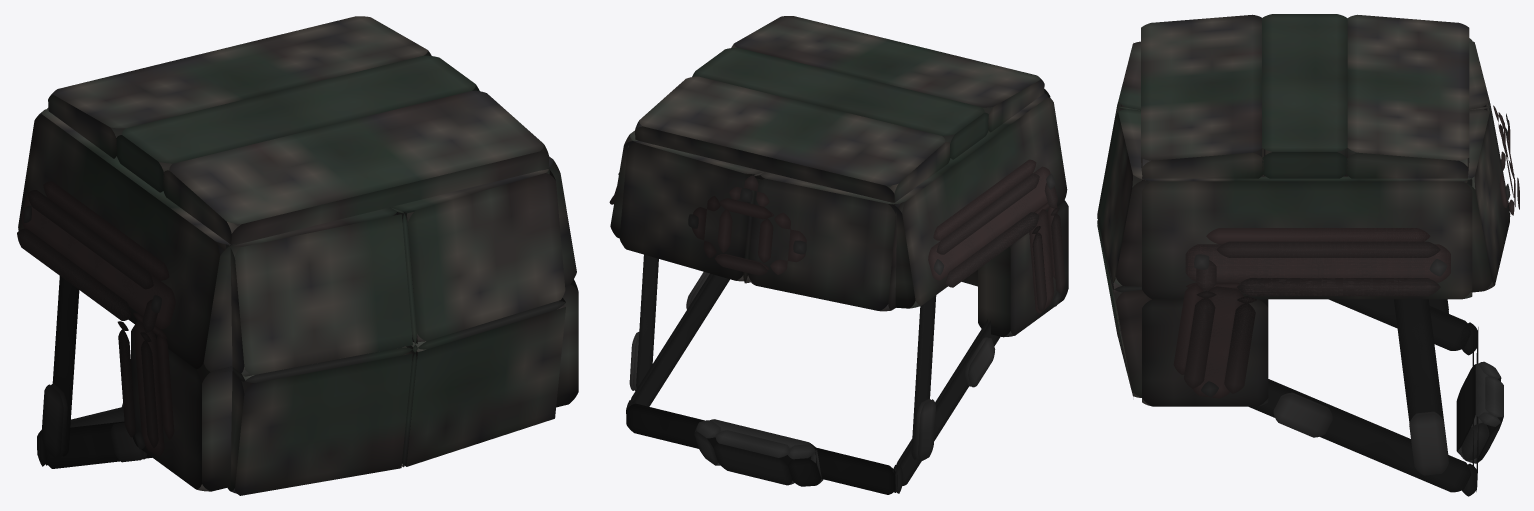
The model's file is helmetfastmt.obj.
The picture shows the model from 3 angles, left to right: view 1: azimuth 30°, elevation 25°; view 2: azimuth 150°, elevation 25°; view 3: azimuth 270°, elevation 25°; orthographic projection. The views are drawn at different scales.
Visible parts, largest first — view 1: cube; view 2: cube; view 3: cube.
Part boxes in pixels (left/top/right/bottom): cube: left=17, top=16, right=578, bottom=495; cube: left=609, top=16, right=1068, bottom=494; cube: left=1097, top=14, right=1519, bottom=496.
Size of the model in its own units: 0.669 by 0.5999 by 0.6475.
